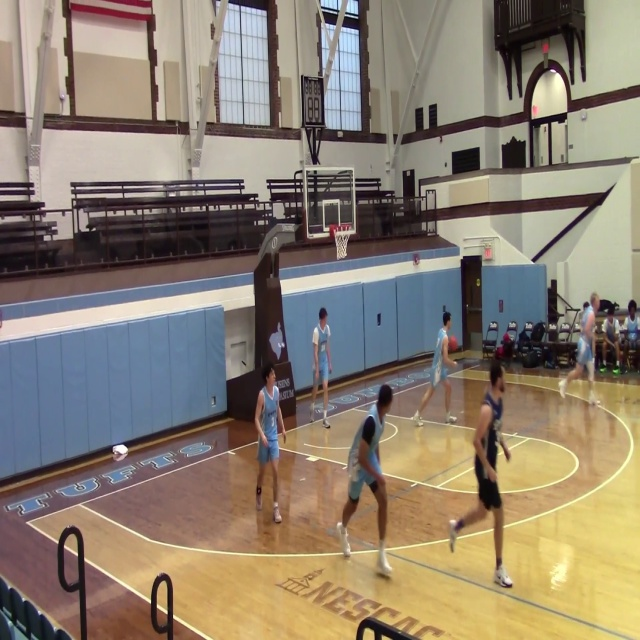Basketball: (447, 336, 458, 353)
